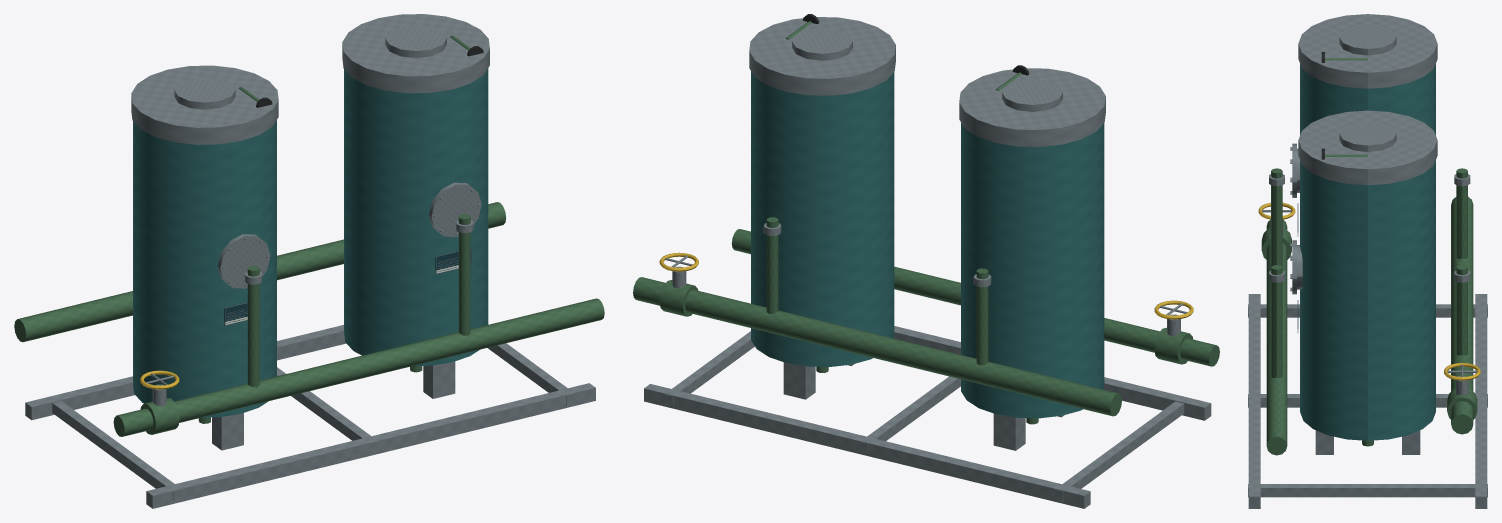
Rendered from PZ_CFW_03_Dual_Pressure_Filter_Skid.glb.
The picture shows the model from 3 angles, left to right: view 1: azimuth 30°, elevation 25°; view 2: azimuth 150°, elevation 25°; view 3: azimuth 270°, elevation 25°; orthographic projection. The views are drawn at different scales.
Visible parts, largest first — view 1: FILTERS_DUAL_Filter2_PressureVesselShell, FILTERS_DUAL_Filter1_PressureVesselShell, FILTERS_DUAL_Supply_Header, FILTERS_DUAL_BaseChannel_L, FILTERS_DUAL_Filter1_TopDomeRim, FILTERS_DUAL_Filter2_TopDomeRim, FILTERS_DUAL_Discharge_Header, FILTERS_DUAL_BaseChannel_R, FILTERS_DUAL_SkidCrossbar_0, FILTERS_DUAL_Filter1_ManwayPlate, FILTERS_DUAL_Filter2_ManwayPlate, FILTERS_DUAL_Filter2_HatchPlate (+8 smaller); view 2: FILTERS_DUAL_Filter1_PressureVesselShell, FILTERS_DUAL_Filter2_PressureVesselShell, FILTERS_DUAL_Discharge_Header, FILTERS_DUAL_BaseChannel_R, FILTERS_DUAL_Filter2_TopDomeRim, FILTERS_DUAL_Filter1_TopDomeRim, FILTERS_DUAL_Supply_Header, FILTERS_DUAL_BaseChannel_L, FILTERS_DUAL_SkidCrossbar_0, FILTERS_DUAL_SkidCrossbar_1, FILTERS_DUAL_Filter2_HatchPlate, FILTERS_DUAL_Filter1_HatchPlate (+7 smaller); view 3: FILTERS_DUAL_Filter2_PressureVesselShell, FILTERS_DUAL_Filter1_TopDomeRim, FILTERS_DUAL_Filter2_TopDomeRim, FILTERS_DUAL_Filter1_PressureVesselShell, FILTERS_DUAL_Supply_Header, FILTERS_DUAL_Discharge_Header, FILTERS_DUAL_SkidCrossbar_2, FILTERS_DUAL_BaseChannel_L, FILTERS_DUAL_BaseChannel_R, FILTERS_DUAL_Filter2_HatchPlate, FILTERS_DUAL_Filter1_HatchPlate, FILTERS_DUAL_Supply_Riser_1 (+10 smaller).
Part boxes in pixels (x1=…): FILTERS_DUAL_Filter2_PressureVesselShell: x1=344, y1=68, x2=488, y2=365; FILTERS_DUAL_Filter1_PressureVesselShell: x1=133, y1=120, x2=276, y2=417; FILTERS_DUAL_Supply_Header: x1=113, y1=298, x2=604, y2=436; FILTERS_DUAL_BaseChannel_L: x1=146, y1=383, x2=595, y2=508; FILTERS_DUAL_Filter1_TopDomeRim: x1=131, y1=65, x2=278, y2=144; FILTERS_DUAL_Filter2_TopDomeRim: x1=342, y1=14, x2=489, y2=93; FILTERS_DUAL_Discharge_Header: x1=14, y1=202, x2=506, y2=342; FILTERS_DUAL_BaseChannel_R: x1=25, y1=325, x2=346, y2=420; FILTERS_DUAL_SkidCrossbar_0: x1=52, y1=401, x2=182, y2=501; FILTERS_DUAL_Filter1_ManwayPlate: x1=217, y1=234, x2=270, y2=288; FILTERS_DUAL_Filter2_ManwayPlate: x1=429, y1=182, x2=481, y2=236; FILTERS_DUAL_Filter2_HatchPlate: x1=385, y1=25, x2=446, y2=57; FILTERS_DUAL_Filter1_PressureVesselShell: x1=961, y1=122, x2=1104, y2=418; FILTERS_DUAL_Filter2_PressureVesselShell: x1=751, y1=71, x2=894, y2=366; FILTERS_DUAL_Discharge_Header: x1=633, y1=277, x2=1121, y2=416; FILTERS_DUAL_BaseChannel_R: x1=644, y1=384, x2=1090, y2=508; FILTERS_DUAL_Filter2_TopDomeRim: x1=749, y1=17, x2=895, y2=95; FILTERS_DUAL_Filter1_TopDomeRim: x1=959, y1=68, x2=1105, y2=146; FILTERS_DUAL_Supply_Header: x1=731, y1=229, x2=1219, y2=366; FILTERS_DUAL_BaseChannel_L: x1=893, y1=326, x2=1211, y2=420; FILTERS_DUAL_SkidCrossbar_0: x1=1055, y1=401, x2=1184, y2=501; FILTERS_DUAL_SkidCrossbar_1: x1=859, y1=376, x2=960, y2=453; FILTERS_DUAL_Filter2_HatchPlate: x1=792, y1=28, x2=852, y2=60; FILTERS_DUAL_Filter1_HatchPlate: x1=1002, y1=79, x2=1062, y2=111; FILTERS_DUAL_Filter2_PressureVesselShell: x1=1300, y1=160, x2=1435, y2=440; FILTERS_DUAL_Filter1_TopDomeRim: x1=1298, y1=14, x2=1437, y2=88; FILTERS_DUAL_Filter2_TopDomeRim: x1=1298, y1=110, x2=1437, y2=185; FILTERS_DUAL_Filter1_PressureVesselShell: x1=1300, y1=64, x2=1435, y2=134; FILTERS_DUAL_Supply_Header: x1=1266, y1=220, x2=1287, y2=455; FILTERS_DUAL_Discharge_Header: x1=1451, y1=196, x2=1473, y2=434; FILTERS_DUAL_SkidCrossbar_2: x1=1248, y1=484, x2=1487, y2=497; FILTERS_DUAL_BaseChannel_L: x1=1248, y1=294, x2=1260, y2=508; FILTERS_DUAL_BaseChannel_R: x1=1475, y1=294, x2=1487, y2=508; FILTERS_DUAL_Filter2_HatchPlate: x1=1339, y1=121, x2=1396, y2=151; FILTERS_DUAL_Filter1_HatchPlate: x1=1339, y1=24, x2=1396, y2=55; FILTERS_DUAL_Supply_Riser_1: x1=1271, y1=265, x2=1282, y2=377.
Bounding box in the file's own units: 6.5 × 4.46 × 3.
6 materials, 6 textured.
